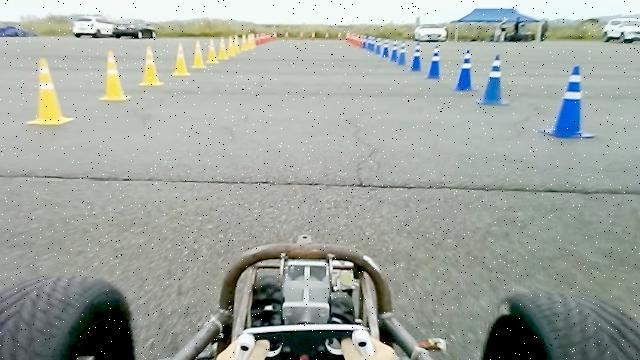blue cone: (540, 64, 596, 138), (476, 53, 510, 106), (453, 48, 480, 92), (424, 44, 444, 80), (410, 42, 422, 72), (398, 40, 408, 66), (390, 40, 400, 62), (382, 40, 389, 57)
yellow cone: (26, 56, 76, 126), (98, 48, 132, 101), (139, 46, 165, 86), (172, 40, 191, 77), (192, 40, 207, 68), (207, 38, 220, 63), (218, 36, 230, 60), (248, 35, 256, 49), (242, 37, 250, 51)
